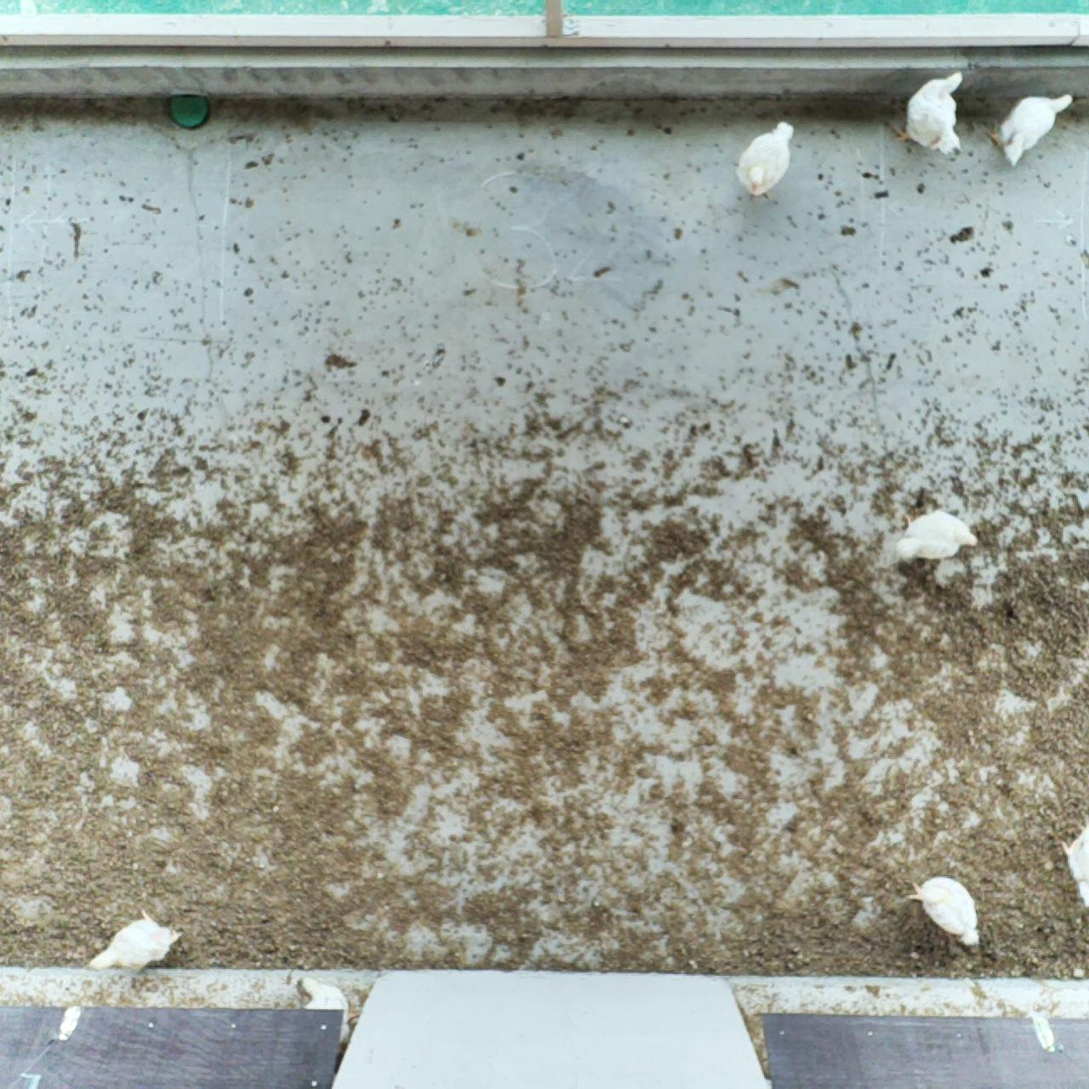chicken: (882, 67, 973, 158), (83, 904, 187, 976), (982, 90, 1076, 167), (728, 116, 801, 204), (892, 499, 982, 567), (904, 872, 983, 948), (1060, 812, 1089, 909)
